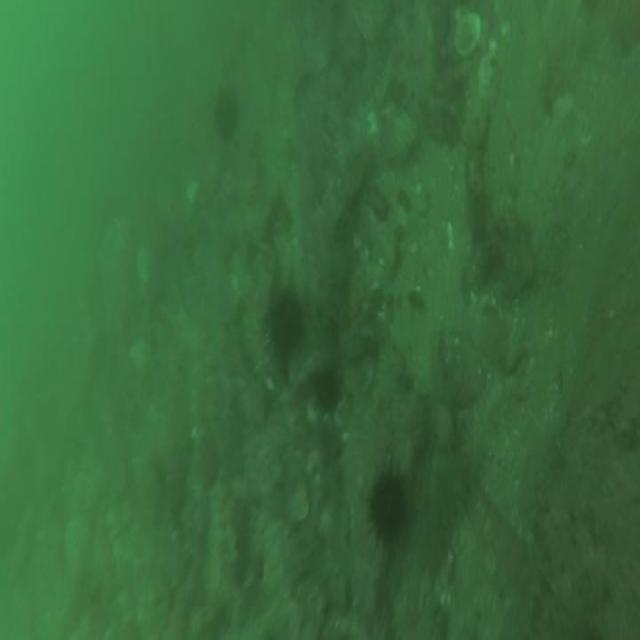echinus: (370, 480, 407, 546), (271, 300, 304, 351), (214, 95, 237, 139), (316, 378, 338, 409)
scallop: (458, 14, 482, 57)
